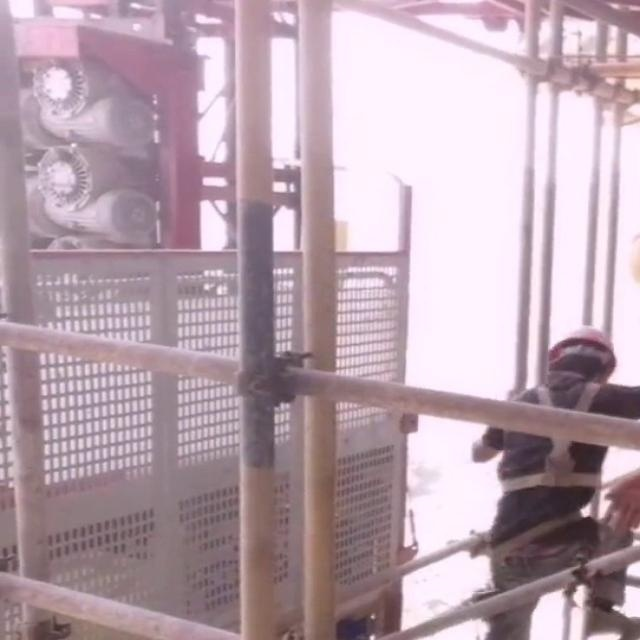Arnes_seguridad: (490, 376, 612, 496)
